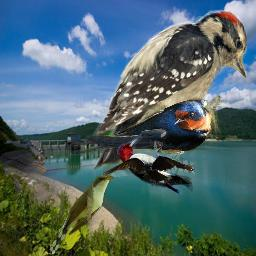Crow: (103, 155, 195, 187)
Cuckoo: (50, 175, 114, 254)
Swallow: (70, 98, 213, 155)
Woodpecker: (80, 8, 247, 175), (109, 133, 195, 198)
